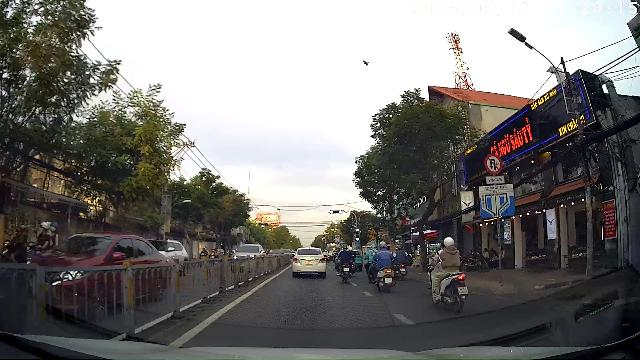124b-cam-oto-quay-dau-xe: (484, 154, 502, 174)
